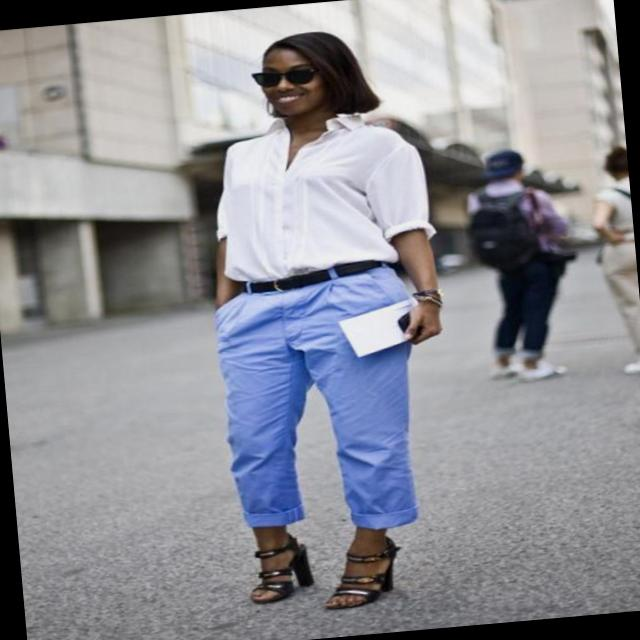pants: (206, 258, 432, 542)
shirt: (206, 106, 440, 281)
